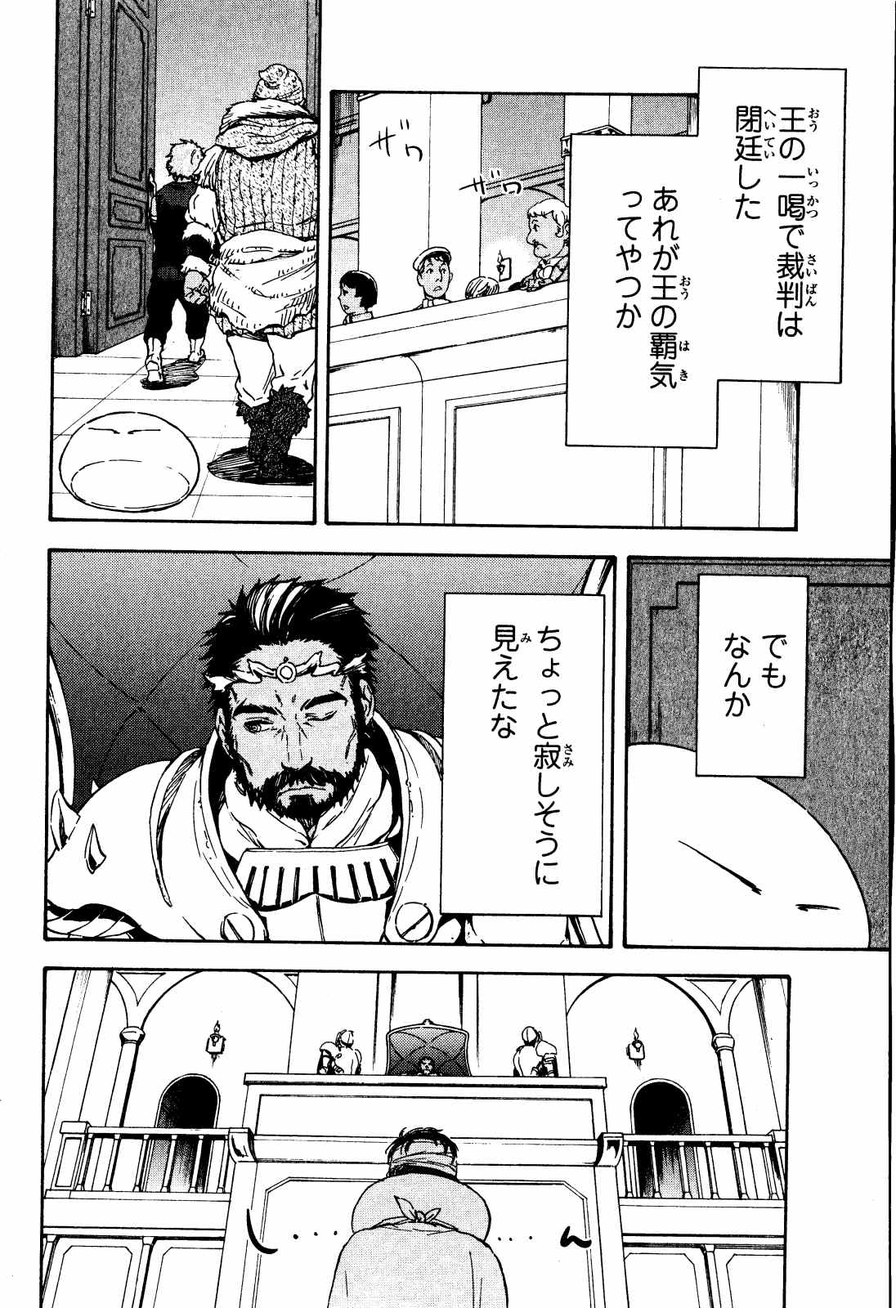bubbles: (563, 57, 856, 457), (439, 588, 607, 923), (692, 569, 815, 786)
